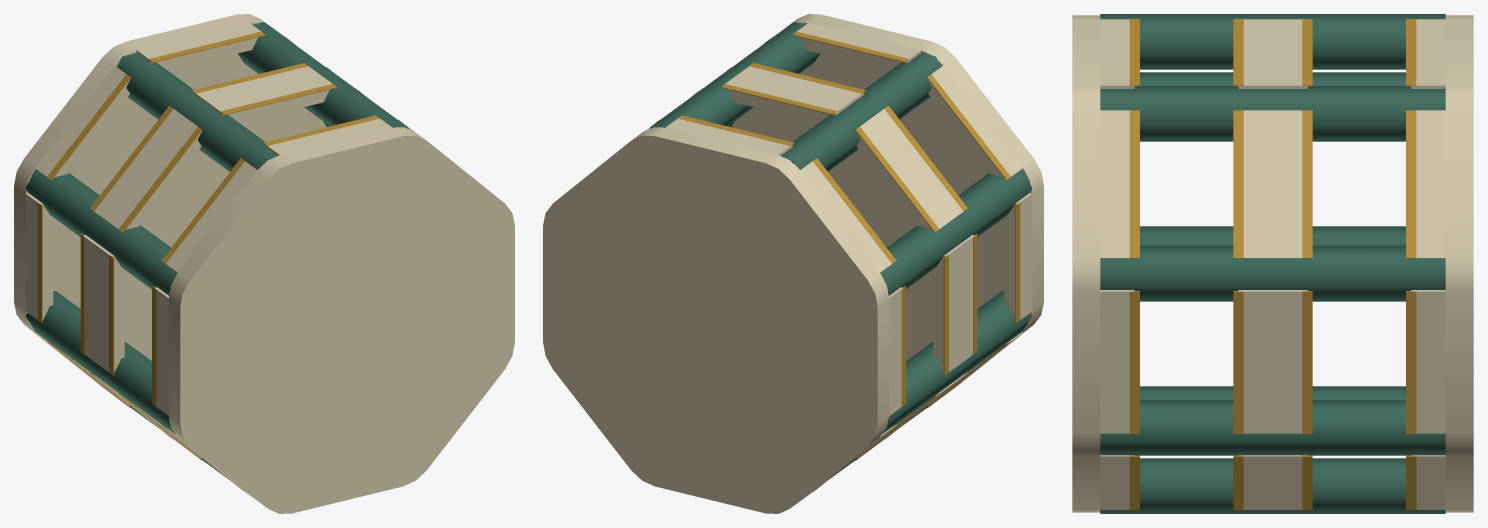
File: h80_housing.obj
3 views of the same model, side by side, from view 1: azimuth 30°, elevation 25°; view 2: azimuth 150°, elevation 25°; view 3: azimuth 270°, elevation 25° (orthographic). The views are drawn at different scales.
Parts seen in each view (by area): view 1: h80_housing; view 2: h80_housing; view 3: h80_housing.
Part boxes in pixels (x1=…): h80_housing: x1=14, y1=14, x2=514, y2=513; h80_housing: x1=543, y1=14, x2=1043, y2=513; h80_housing: x1=1072, y1=14, x2=1473, y2=513.
Size of the model in its own units: 5.04 by 5.04 by 4.33.
